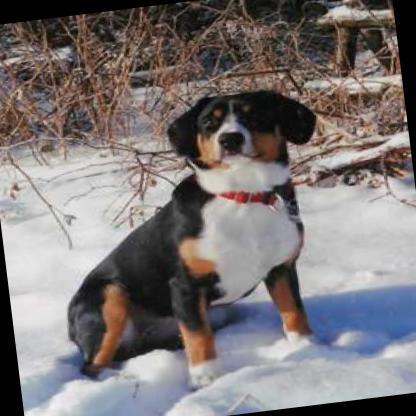EntleBucher: (28, 71, 359, 409)
